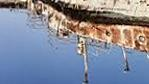rust: (68, 18, 123, 43), (134, 27, 149, 47)
